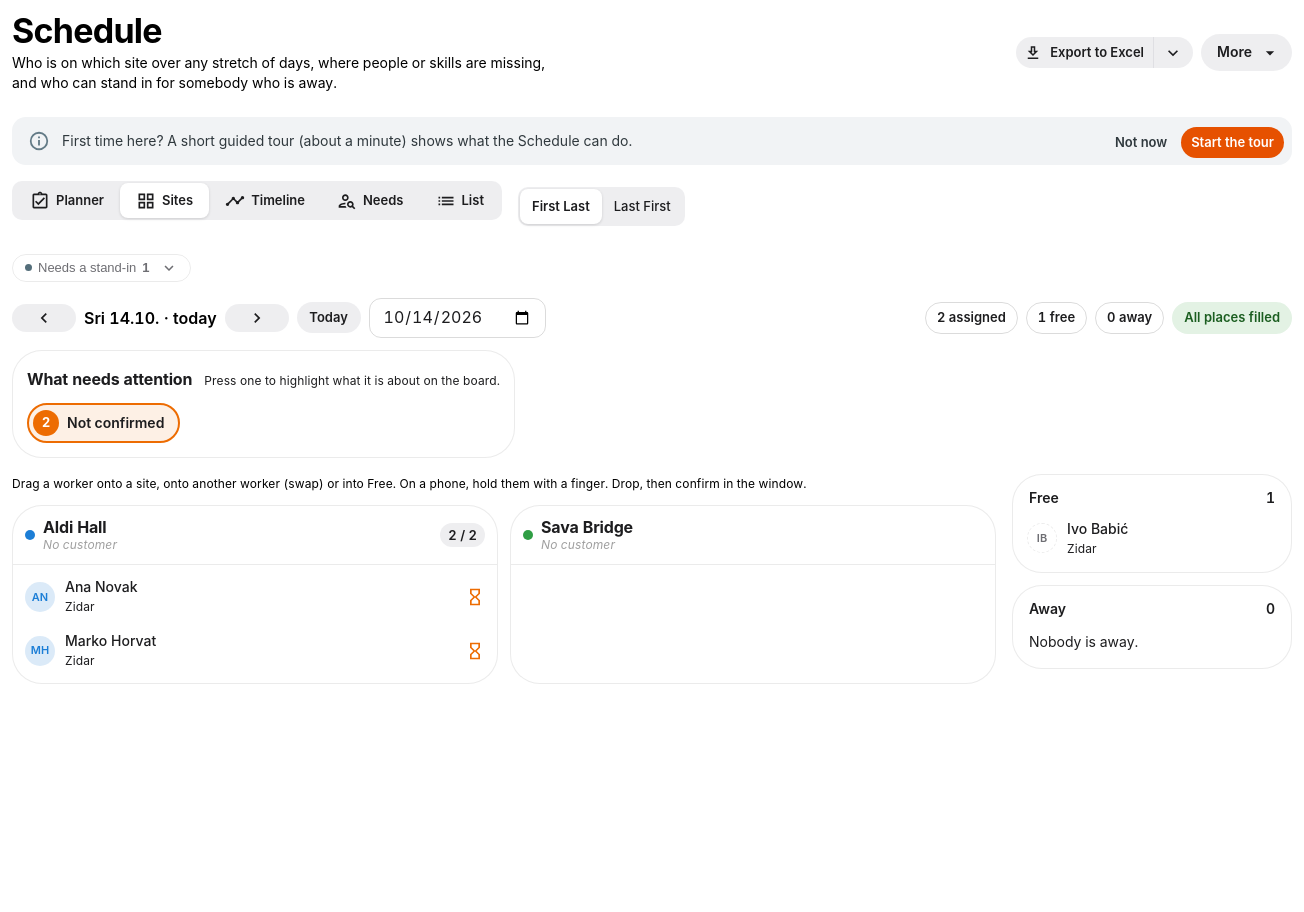
Test: PlanningPage › lists an absence that leaves a site short, with how many people could stand in
The width and height of the screenshot is (1304, 912).
Click the button "Needs a stand-in 1".
click(101, 268)  # box [12,254,190,282]
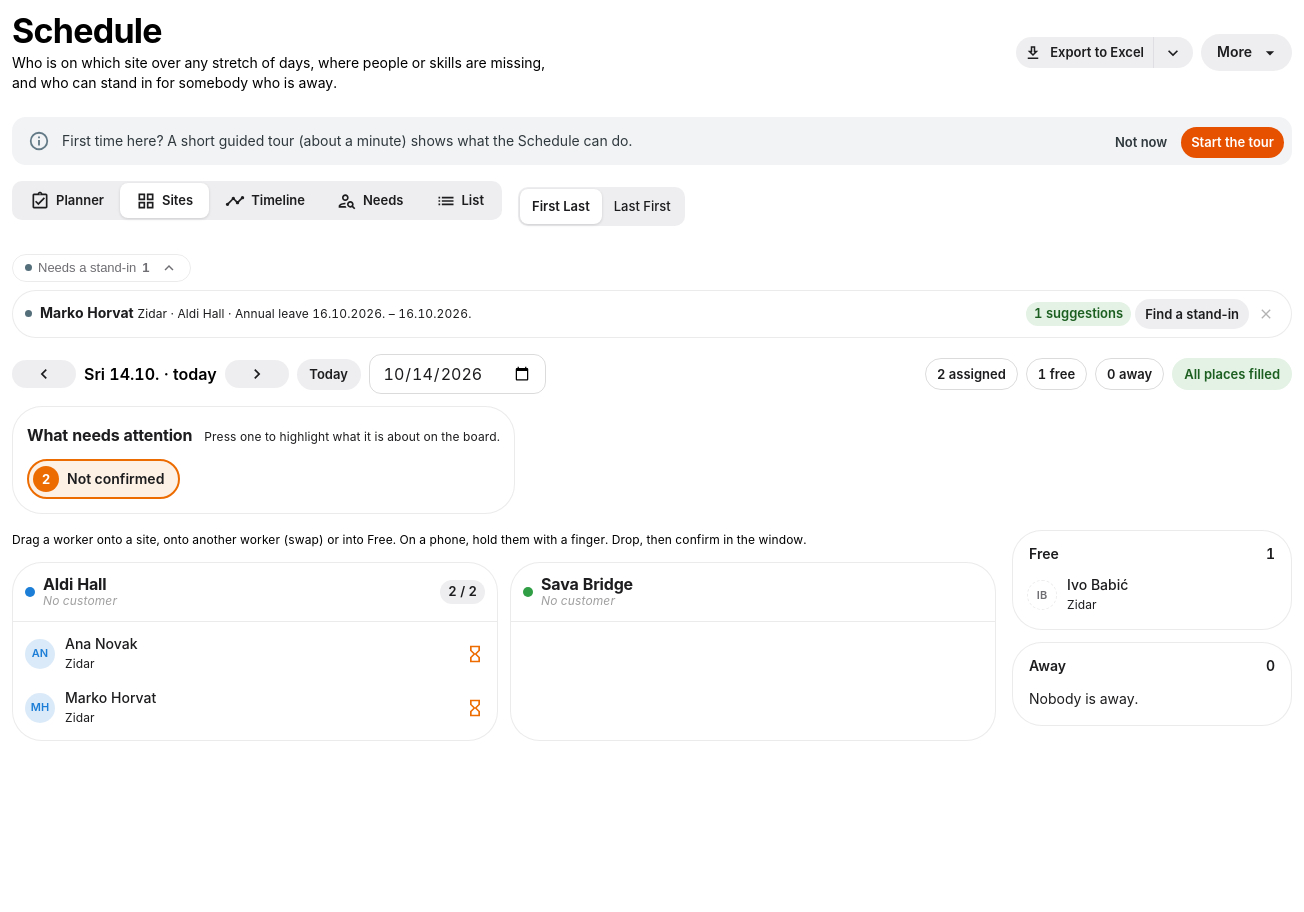
expect the text "Marko Horvat" in the row of "Annual leave" is shown: met, box [40,304,134,322]
expect the text "1 suggestions" is shown: met, box [1034,305,1123,321]
